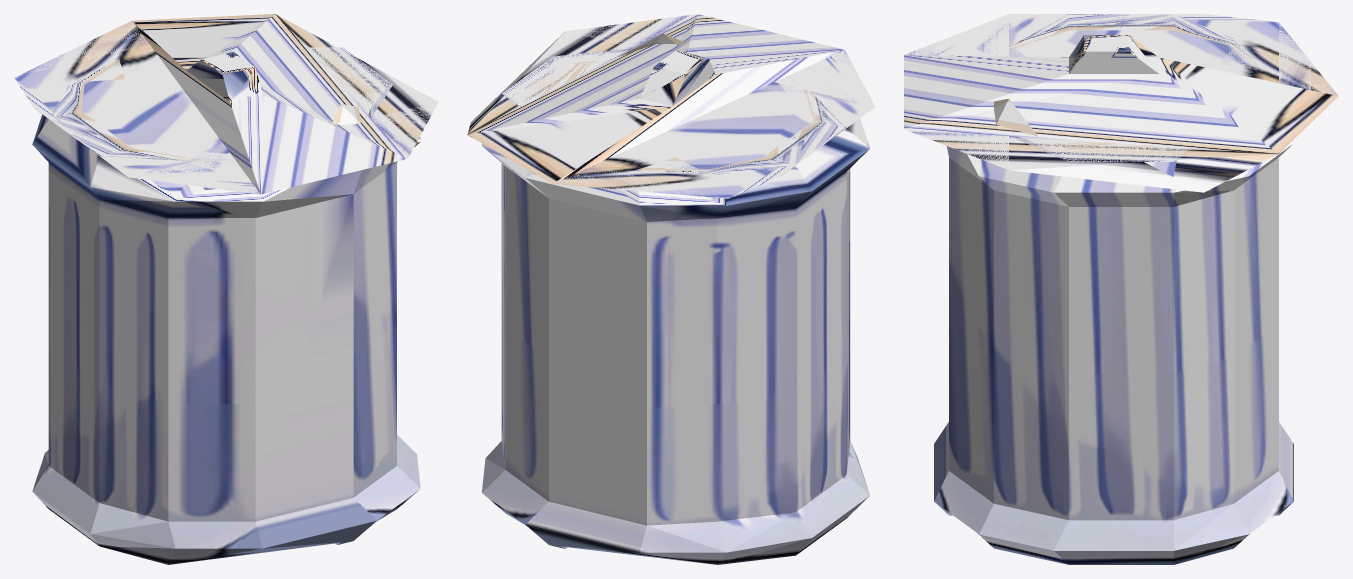
The model's file is InvTrash.glb.
3 views of the same model, side by side, from view 1: azimuth 30°, elevation 25°; view 2: azimuth 150°, elevation 25°; view 3: azimuth 270°, elevation 25° (orthographic). The views are drawn at different scales.
Parts seen in each view (by area): view 1: InvTrash; view 2: InvTrash; view 3: InvTrash.
Boxes of the visible parts, x1=… form: InvTrash: x1=14, y1=14, x2=438, y2=564; InvTrash: x1=467, y1=14, x2=875, y2=564; InvTrash: x1=904, y1=14, x2=1338, y2=564.
Size of the model in its own units: 11.21 by 14.21 by 12.51.
1 material, 1 textured.
